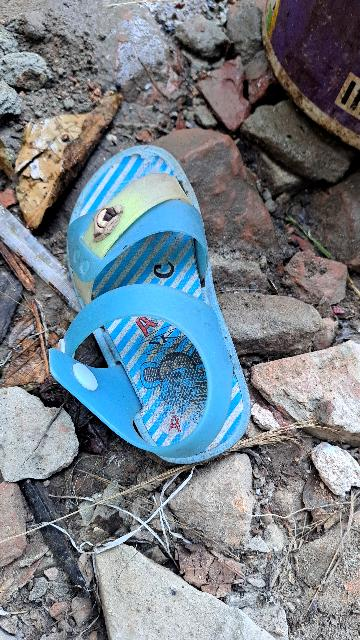sandal: (43, 127, 255, 477)
